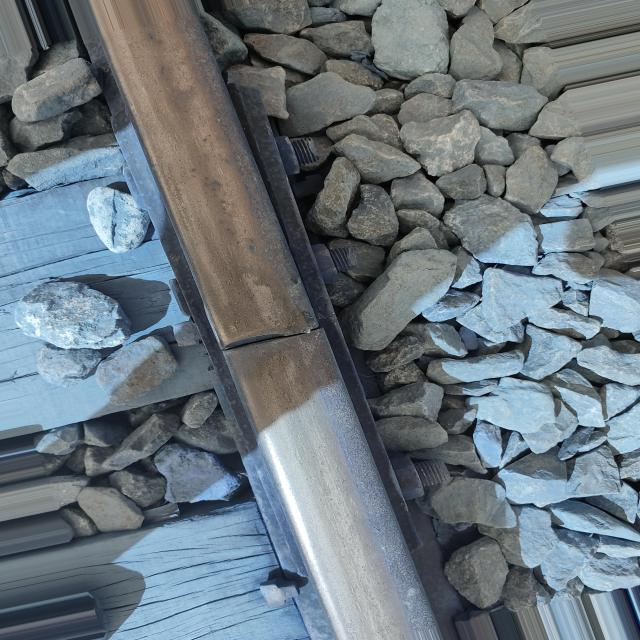crack: (207, 302, 328, 369)
